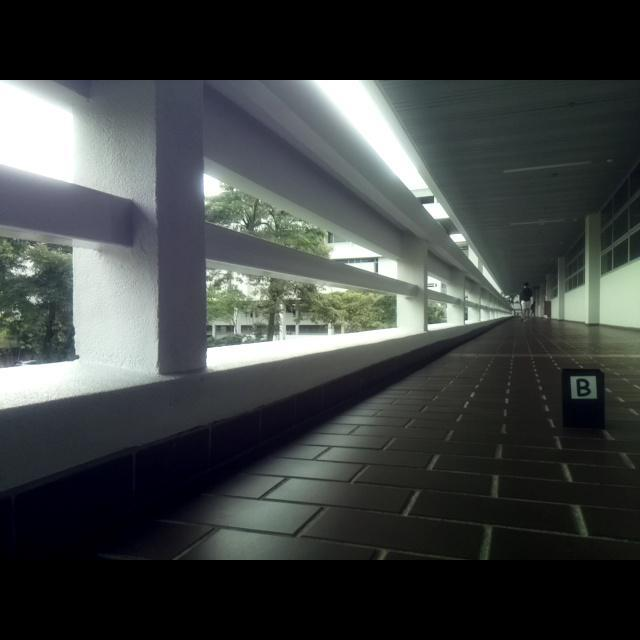B: (575, 378, 591, 398)
